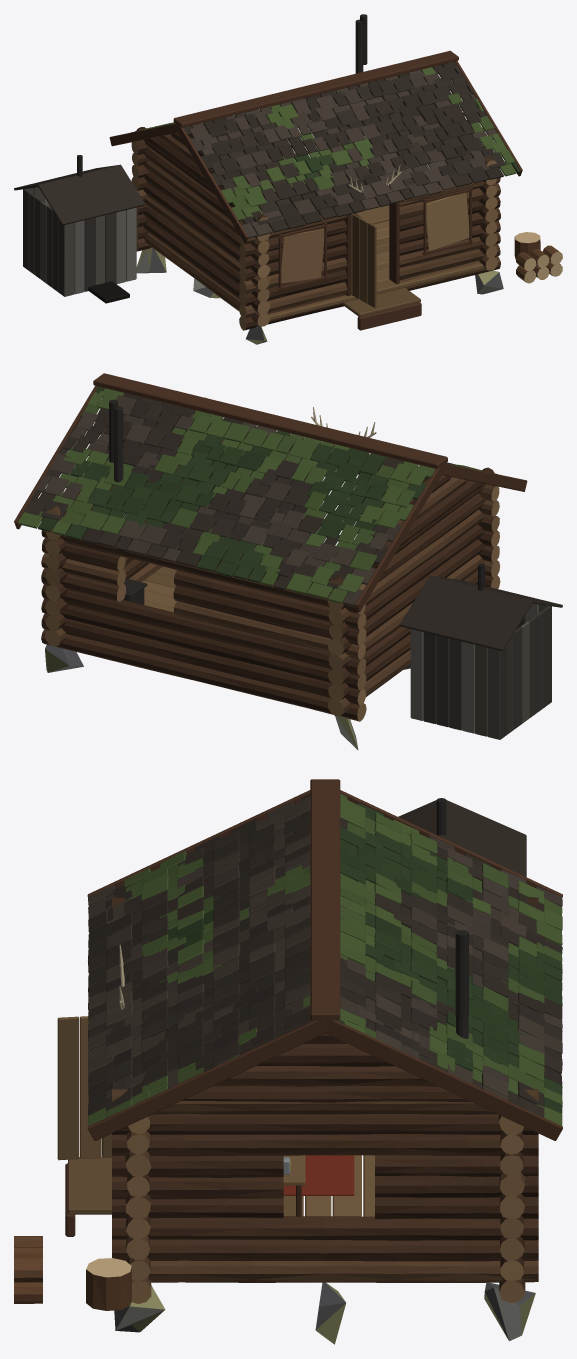
Rendered from cabin-hunter.glb.
3 views of the same model, one above another, from view 1: azimuth 30°, elevation 25°; view 2: azimuth 150°, elevation 25°; view 3: azimuth 270°, elevation 25° (orthographic). The views are drawn at different scales.
Parts seen in each view (by area): view 1: hunter-roof, hunter-wall-front, hunter-outside, hunter-wall-left, hunter-floor, hunter-wall-right, hunter-wall-back, hunter-inside; view 2: hunter-roof, hunter-wall-back, hunter-outside, hunter-wall-left, hunter-wall-right, hunter-floor, hunter-wall-front, hunter-inside; view 3: hunter-roof, hunter-wall-right, hunter-floor, hunter-wall-front, hunter-outside, hunter-wall-back, hunter-inside.
Part boxes in pixels (x1,y1,x2,y2): hunter-roof: [109, 14, 522, 243]; hunter-wall-front: [239, 165, 500, 330]; hunter-outside: [14, 155, 562, 303]; hunter-wall-left: [136, 126, 270, 326]; hunter-floor: [136, 221, 503, 344]; hunter-wall-right: [375, 70, 497, 270]; hunter-wall-back: [131, 83, 377, 251]; hunter-inside: [258, 19, 389, 224]; hunter-roof: [14, 373, 527, 612]; hunter-wall-back: [41, 517, 366, 721]; hunter-outside: [399, 563, 562, 739]; hunter-wall-left: [327, 467, 494, 716]; hunter-wall-right: [45, 397, 205, 646]; hunter-floor: [45, 555, 410, 749]; hunter-wall-front: [196, 407, 500, 588]; hunter-inside: [114, 406, 256, 604]; hunter-roof: [87, 779, 562, 1140]; hunter-wall-right: [112, 1033, 538, 1282]; hunter-floor: [65, 1155, 535, 1344]; hunter-wall-front: [57, 944, 151, 1303]; hunter-outside: [14, 798, 526, 1310]; hunter-wall-back: [499, 1115, 525, 1302]; hunter-inside: [283, 1016, 468, 1216].
Bounding box in the file's own units: 9.78 × 5.03 × 6.61.
